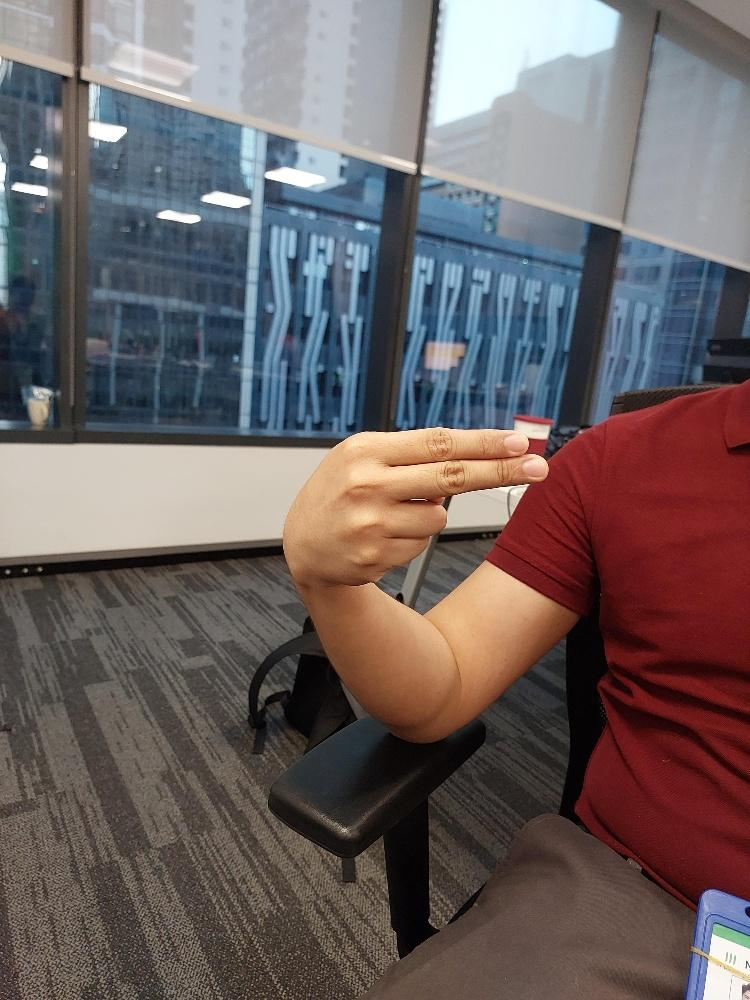h: (279, 424, 550, 593)
